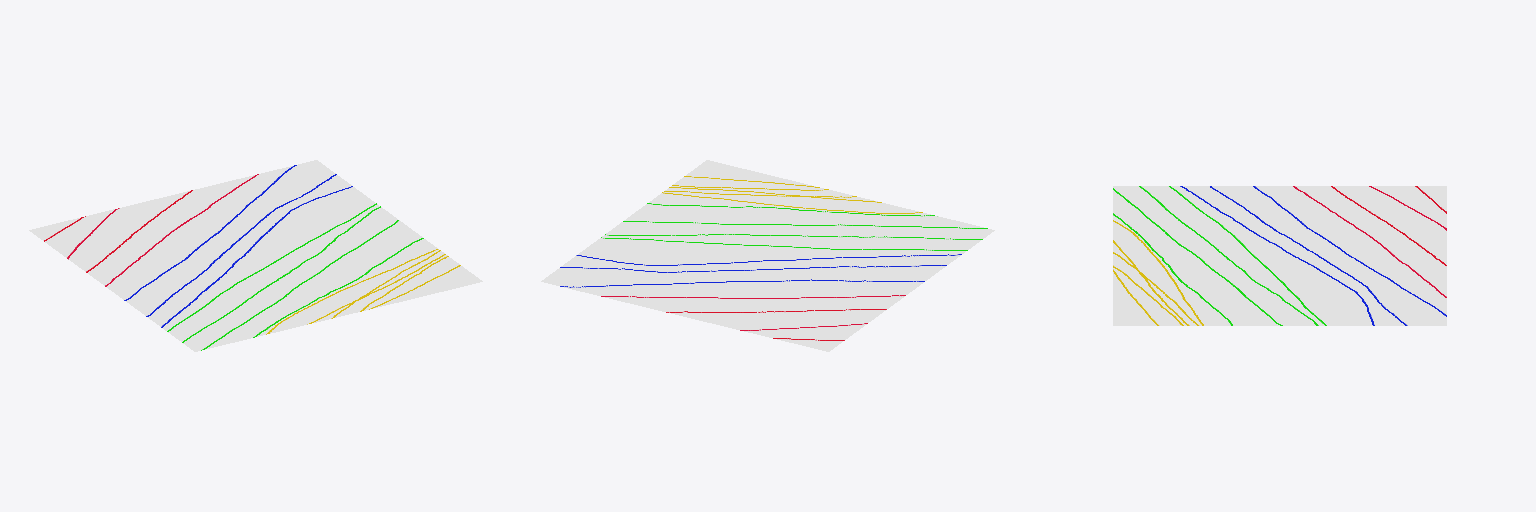
3 renders of one model, left to right at view 1: azimuth 30°, elevation 25°; view 2: azimuth 150°, elevation 25°; view 3: azimuth 270°, elevation 25°, orthographic.
Parts seen in each view (by area): view 1: Plane; view 2: Plane; view 3: Plane.
Boxes of the visible parts, x1,y1,x2,y2 form: Plane: [29, 160, 482, 351]; Plane: [541, 160, 994, 351]; Plane: [1113, 186, 1446, 325].
Size of the model in its own units: 2 by 0 by 2.
1 materials, 1 textured.